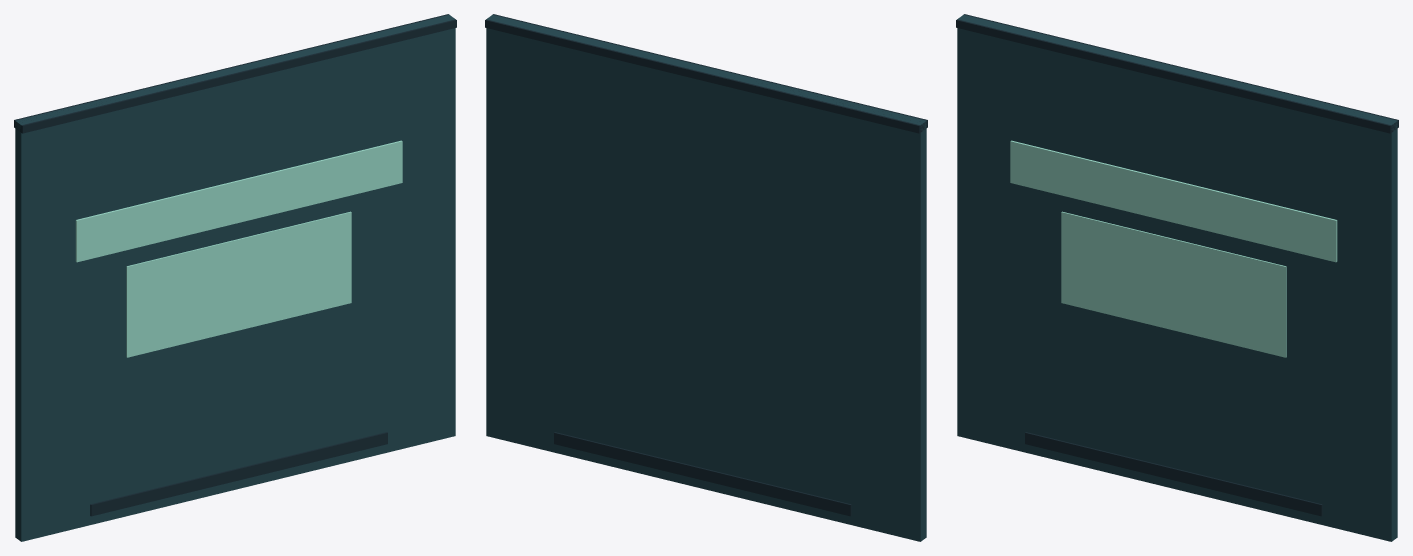
3 renders of one model, left to right at view 1: azimuth 30°, elevation 25°; view 2: azimuth 150°, elevation 25°; view 3: azimuth 330°, elevation 25°, orthographic.
Parts seen in each view (by area): view 1: background-surface, background-content, background-accent, background-edge, background-brand-plinth; view 2: background-surface, background-edge, background-brand-plinth; view 3: background-surface, background-content, background-accent, background-edge, background-brand-plinth.
Boxes of the visible parts, box(x1,y1,x2,y2) form: background-surface: box(15, 15, 455, 541); background-content: box(126, 211, 351, 357); background-accent: box(75, 140, 402, 262); background-edge: box(14, 14, 456, 133); background-brand-plinth: box(90, 432, 387, 516); background-surface: box(486, 15, 926, 541); background-edge: box(485, 14, 927, 133); background-brand-plinth: box(554, 432, 851, 516); background-surface: box(957, 15, 1397, 541); background-content: box(1061, 211, 1286, 357); background-accent: box(1010, 140, 1337, 262); background-edge: box(956, 14, 1398, 133); background-brand-plinth: box(1025, 432, 1322, 516).
Bounding box in the file's own units: 2.4 × 2.2 × 0.08.
